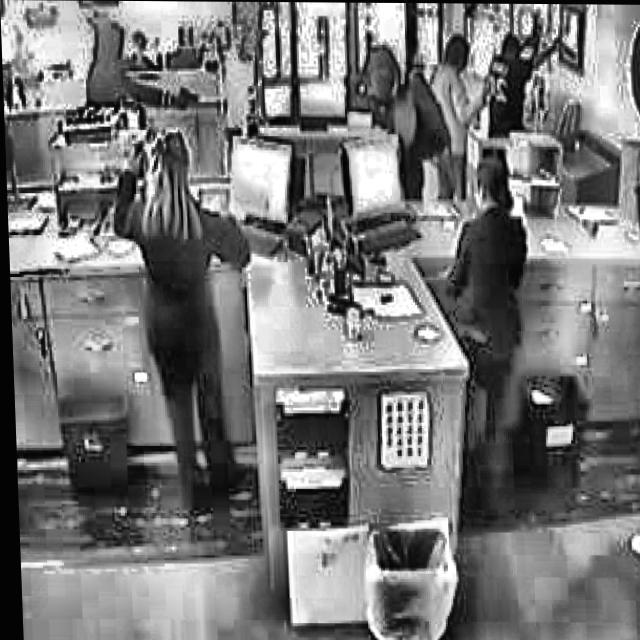Weapon: (88, 100, 286, 538), (434, 133, 602, 486), (360, 0, 567, 229)
